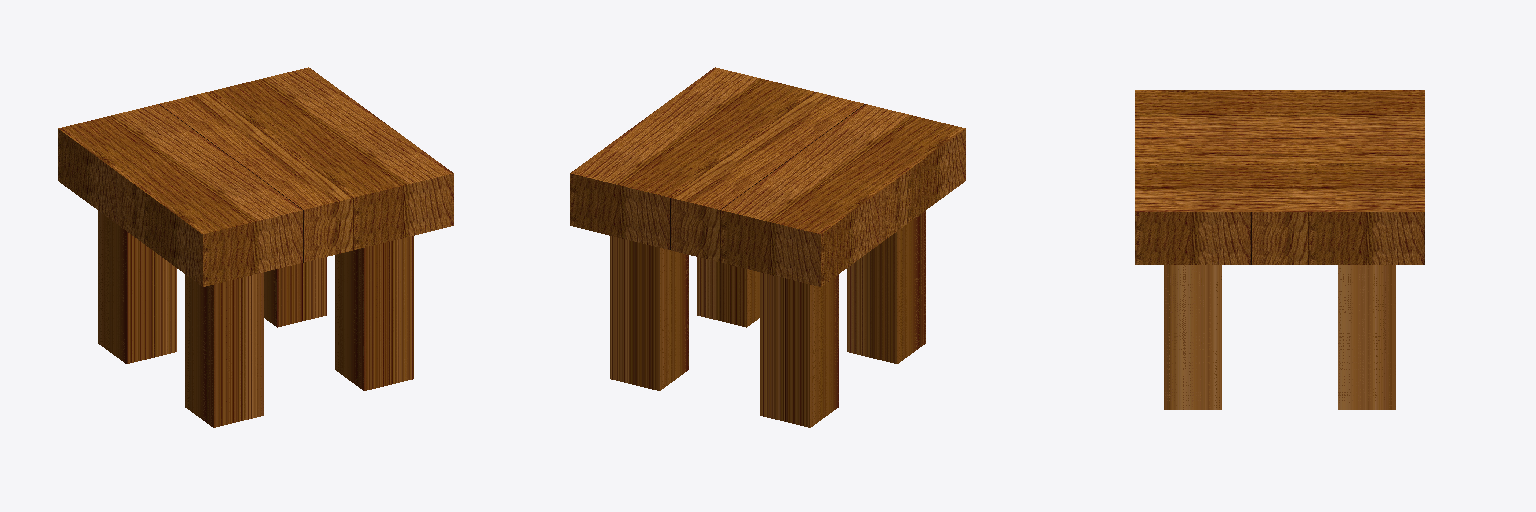
3 views of the same model, side by side, from view 1: azimuth 30°, elevation 25°; view 2: azimuth 150°, elevation 25°; view 3: azimuth 270°, elevation 25° (orthographic).
Parts seen in each view (by area): view 1: Tisch; view 2: Tisch; view 3: Tisch.
Boxes of the visible parts, x1,y1,x2,y2 form: Tisch: [58, 67, 453, 427]; Tisch: [570, 67, 965, 427]; Tisch: [1135, 90, 1424, 409].
Size of the model in its own units: 100 by 80 by 100.
Materials: 1 (1 with a texture image).